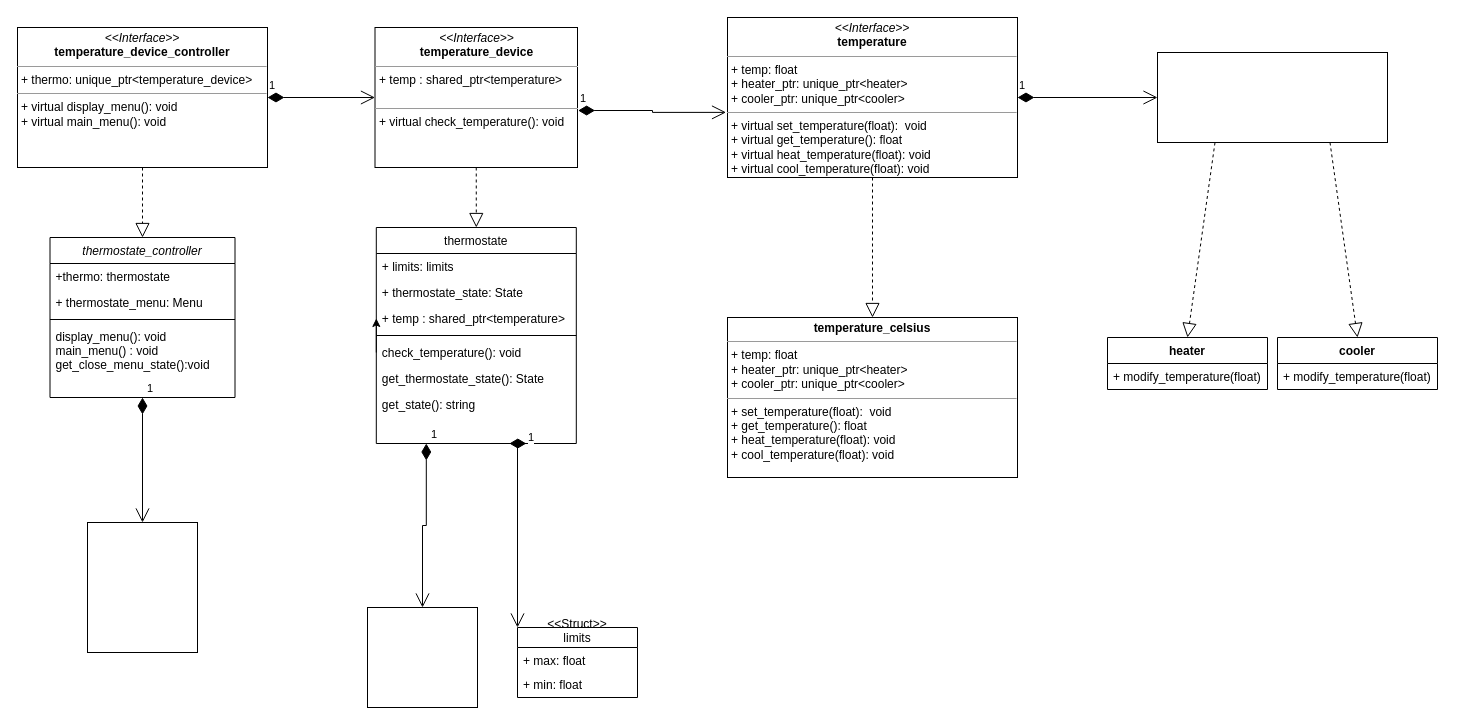
The diagram is 1480 pixels wide and 725 high, and some of its shapes have lost their labels. The centre of each missing label's shape, as x and y in pixels:
<<Enum>> Menu front_menu modify_max_limit modify_min_limit close modify: the point at 142,587
<<Enum>> State stop heat cool: the point at 422,657
<<Interface>> temperature_modifier + virtual modify_temperature(float) : float: the point at 1272,97
